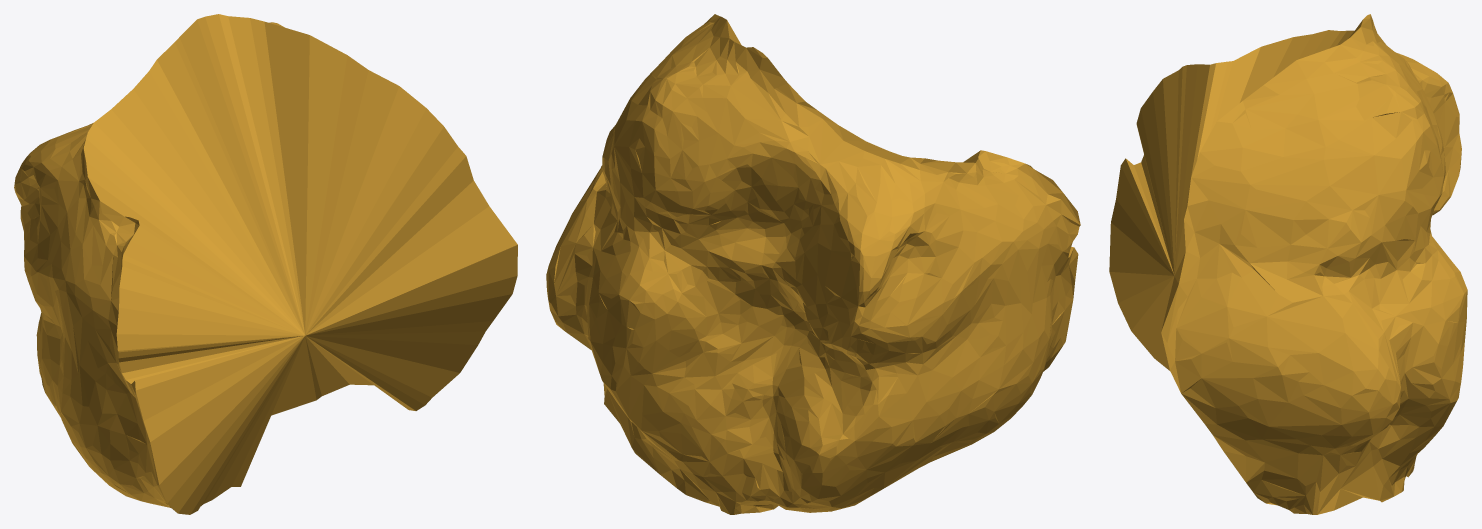
The model's file is Crown_16__Demo_Virtual_Patient.obj.
The picture shows the model from 3 angles, left to right: view 1: azimuth 30°, elevation 25°; view 2: azimuth 150°, elevation 25°; view 3: azimuth 270°, elevation 25°; orthographic projection. The views are drawn at different scales.
Size of the model in its own units: 11.88 by 11.91 by 8.53.
